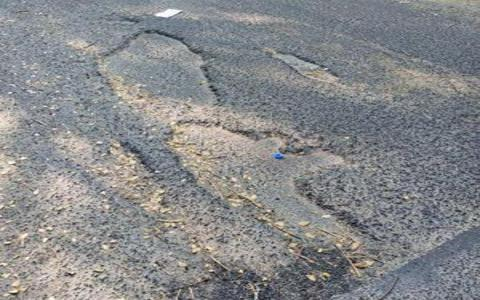patchy roads: (62, 11, 380, 285)
